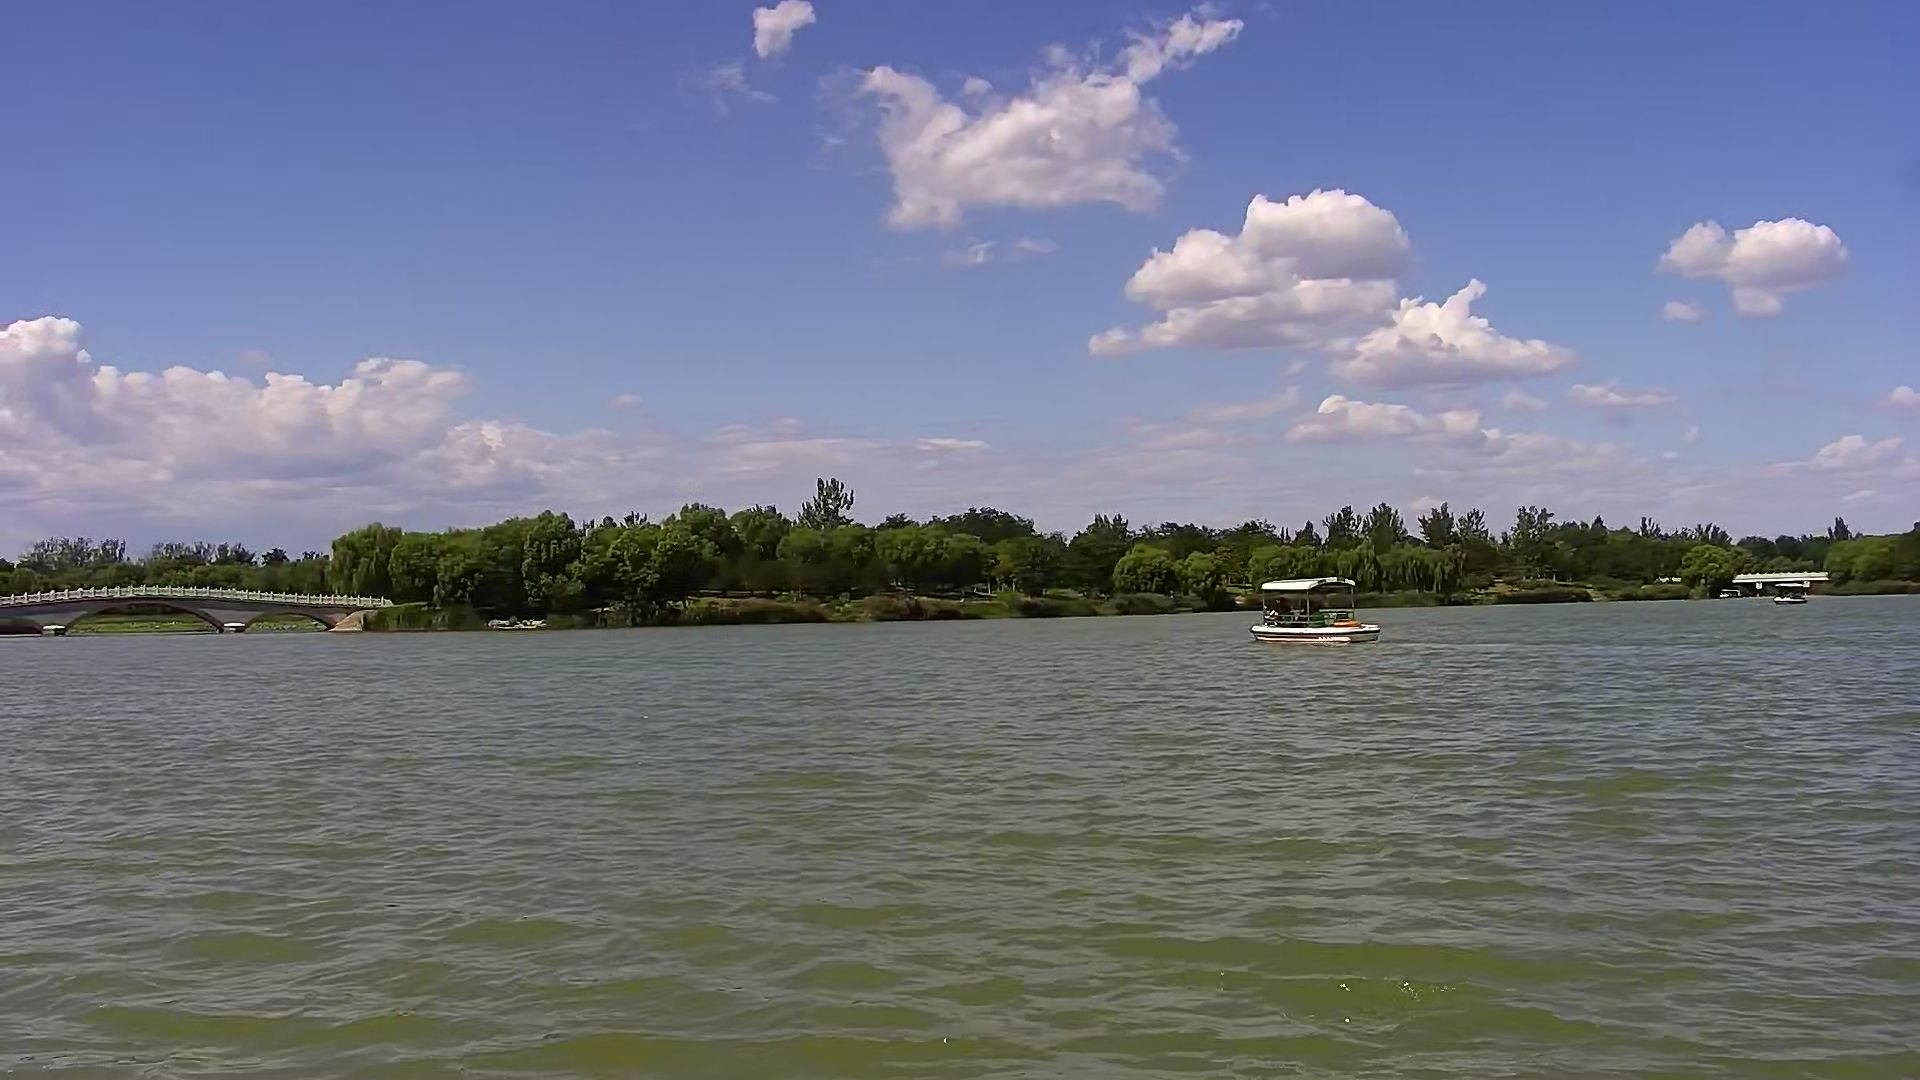boat: (1251, 575, 1375, 644)
bridge: (1, 580, 367, 644), (1735, 564, 1822, 589)
